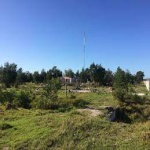Uncultivated: (4, 80, 148, 150)
